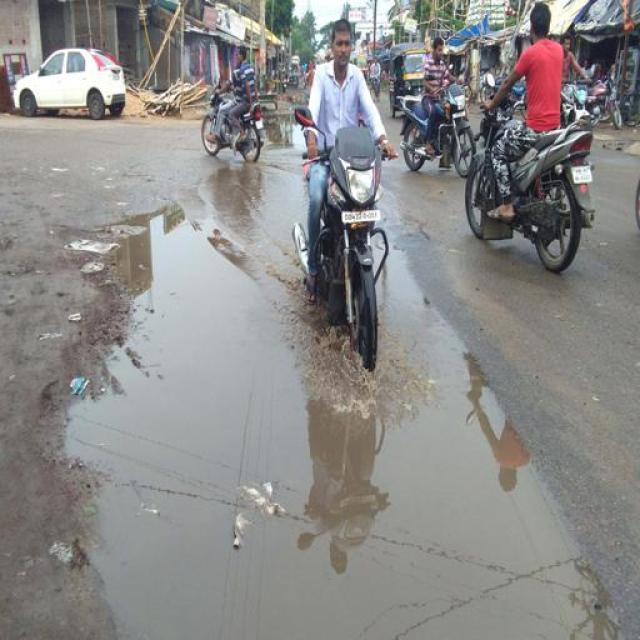puddle: (111, 233, 286, 640), (249, 384, 493, 630)
